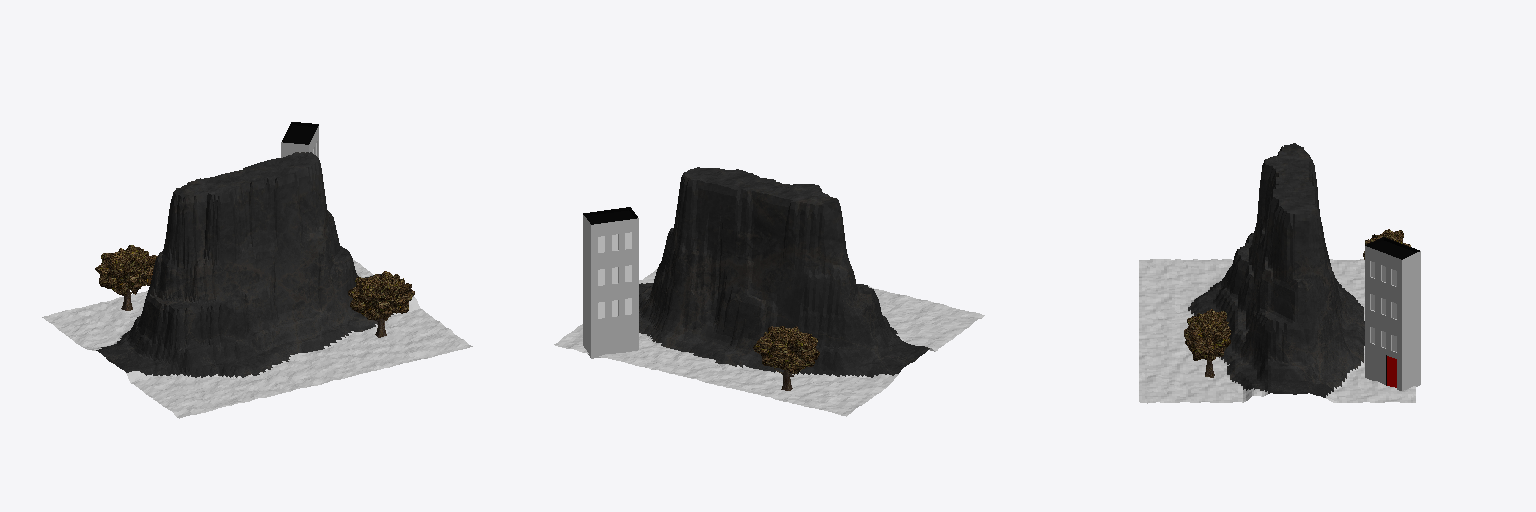
3 views of the same model, side by side, from view 1: azimuth 30°, elevation 25°; view 2: azimuth 150°, elevation 25°; view 3: azimuth 270°, elevation 25° (orthographic).
Visible parts, largest first — view 1: Terrain_Chunk_3, Terrain_Chunk_3_Sides, Tree_Top.006, Tree_Top.007, Building.002; view 2: Terrain_Chunk_3, Building.002, Terrain_Chunk_3_Sides, Tree_Top.007; view 3: Terrain_Chunk_3, Building.002, Terrain_Chunk_3_Sides, Tree_Top.006.
Part boxes in pixels (bbox=[...]): Terrain_Chunk_3: bbox=[68, 152, 445, 411]; Terrain_Chunk_3_Sides: bbox=[42, 260, 472, 418]; Tree_Top.006: bbox=[348, 271, 414, 320]; Tree_Top.007: bbox=[95, 245, 157, 294]; Building.002: bbox=[281, 122, 318, 157]; Terrain_Chunk_3: bbox=[581, 167, 957, 409]; Building.002: bbox=[583, 207, 638, 358]; Terrain_Chunk_3_Sides: bbox=[554, 268, 984, 416]; Tree_Top.007: bbox=[753, 326, 819, 373]; Terrain_Chunk_3: bbox=[1139, 143, 1415, 389]; Building.002: bbox=[1365, 237, 1420, 390]; Terrain_Chunk_3_Sides: bbox=[1139, 259, 1415, 403]; Tree_Top.006: bbox=[1184, 309, 1231, 360].
Bounding box in the file's own units: 48.93 × 24.59 × 40.7.
Materials: 8 (3 with a texture image).